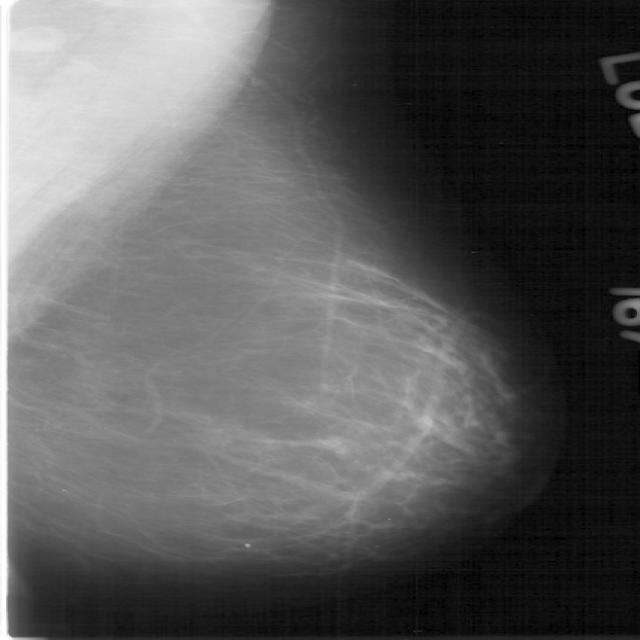tumour: (313, 434, 354, 458)
